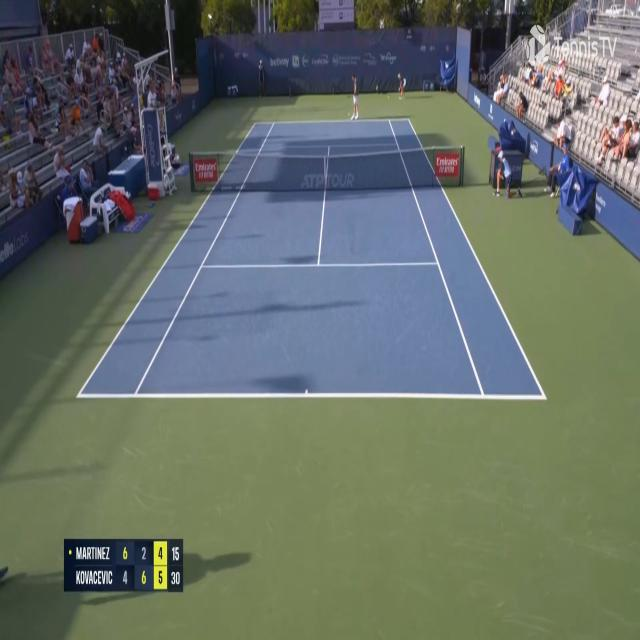tennis-player: (349, 71, 361, 122)
